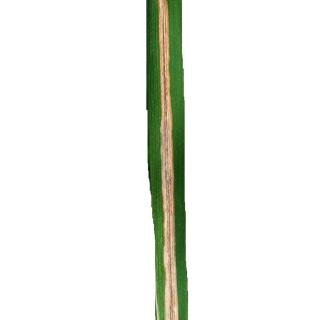Hawar-Daun: (148, 0, 186, 320)
